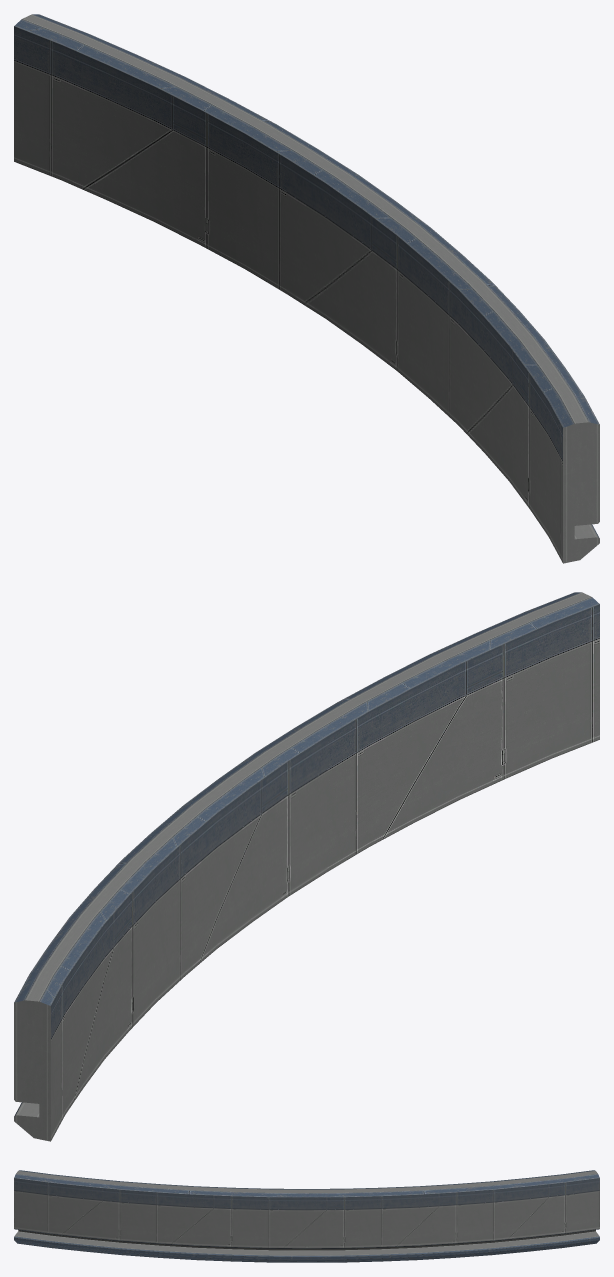
Rendered from Club_RingBorder3x_01.FBX.
3 views of the same model, one above another, from view 1: azimuth 30°, elevation 25°; view 2: azimuth 150°, elevation 25°; view 3: azimuth 270°, elevation 25° (orthographic). The views are drawn at different scales.
Parts seen in each view (by area): view 1: Club_RingBorder3x_01; view 2: Club_RingBorder3x_01; view 3: Club_RingBorder3x_01.
Part boxes in pixels (bbox=[...]): Club_RingBorder3x_01: bbox=[14, 14, 599, 563]; Club_RingBorder3x_01: bbox=[14, 592, 599, 1141]; Club_RingBorder3x_01: bbox=[14, 1170, 599, 1262].
Size of the model in its own units: 3.29 by 4.08 by 29.87.
